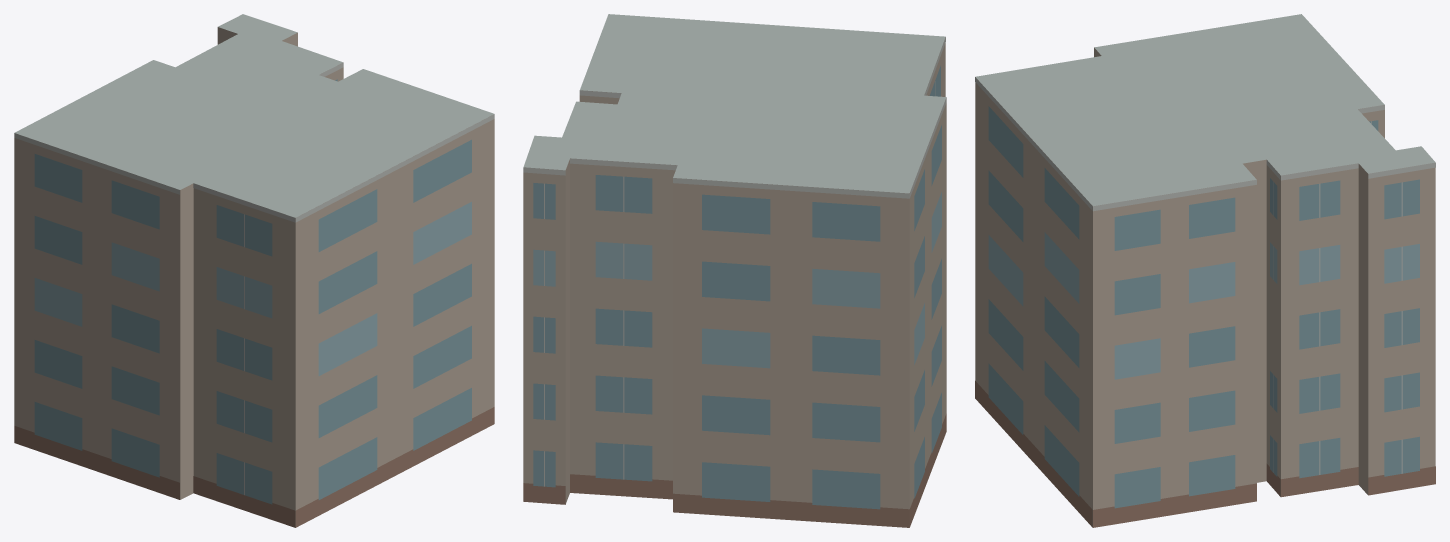
File: survey-upis-33013346.glb
3 views of the same model, side by side, from view 1: azimuth 30°, elevation 25°; view 2: azimuth 150°, elevation 25°; view 3: azimuth 270°, elevation 25° (orthographic). The views are drawn at different scales.
Visible parts, largest first — view 1: survey-upis-33013346.tmp; view 2: survey-upis-33013346.tmp; view 3: survey-upis-33013346.tmp.
Part boxes in pixels (bbox=[...]): survey-upis-33013346.tmp: bbox=[14, 14, 494, 527]; survey-upis-33013346.tmp: bbox=[523, 14, 946, 527]; survey-upis-33013346.tmp: bbox=[975, 14, 1435, 527].
Bounding box in the file's own units: 20.01 × 15.6 × 20.26.
